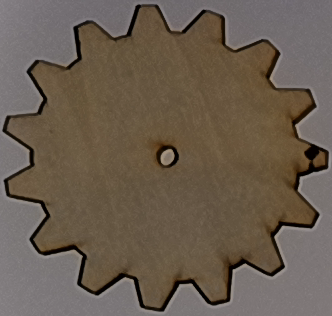Points: (302, 143, 322, 173)
